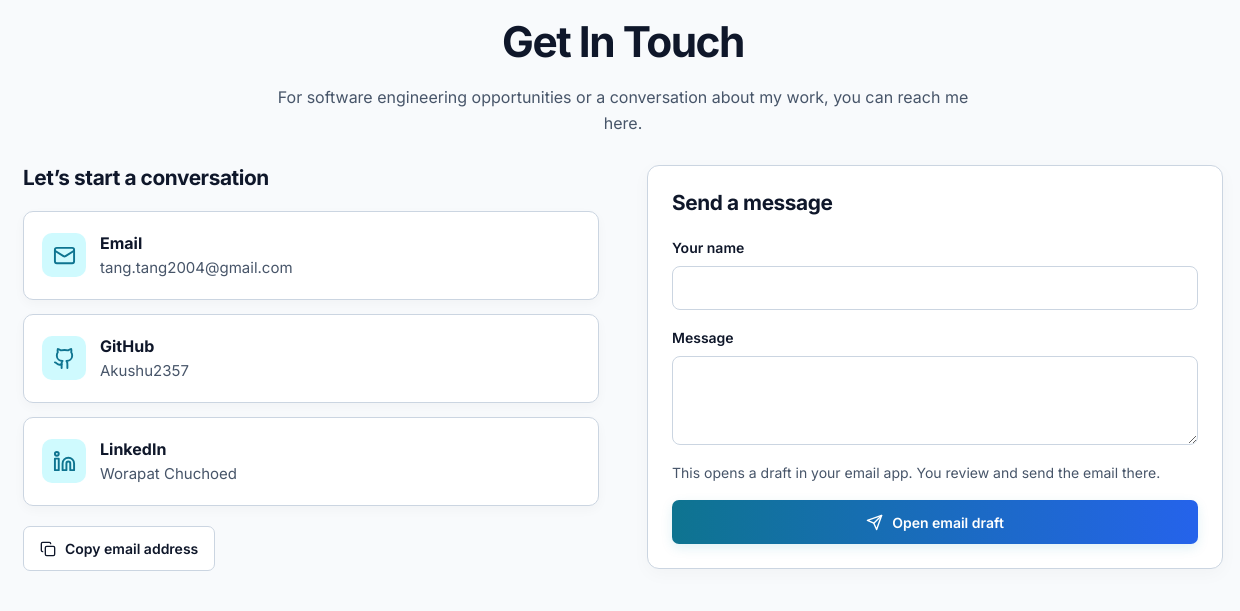
Scenario: Navigation and contact › reports clipboard success only after a successful write
The width and height of the screenshot is (1240, 611).
Click the button "Copy email address" at {"x": 119, "y": 549}, box [23,526,215,571]
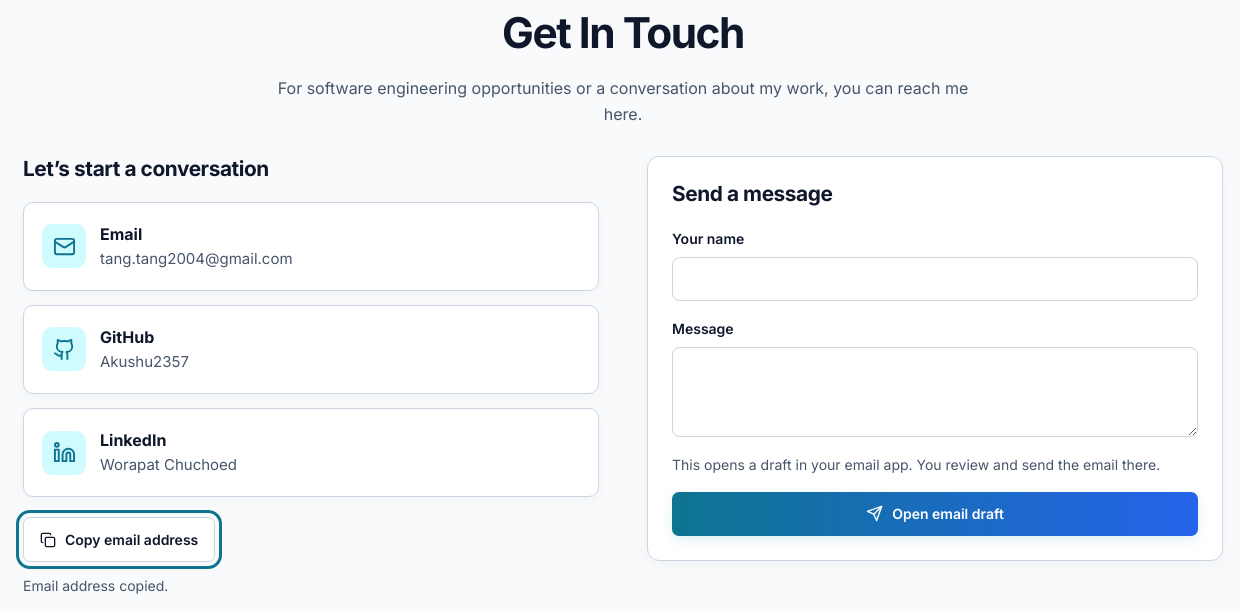
Result: the text "Email address copied." is shown at [23,577,168,594]
Click the button "Copy email address" at {"x": 119, "y": 540}, box [23,517,215,562]
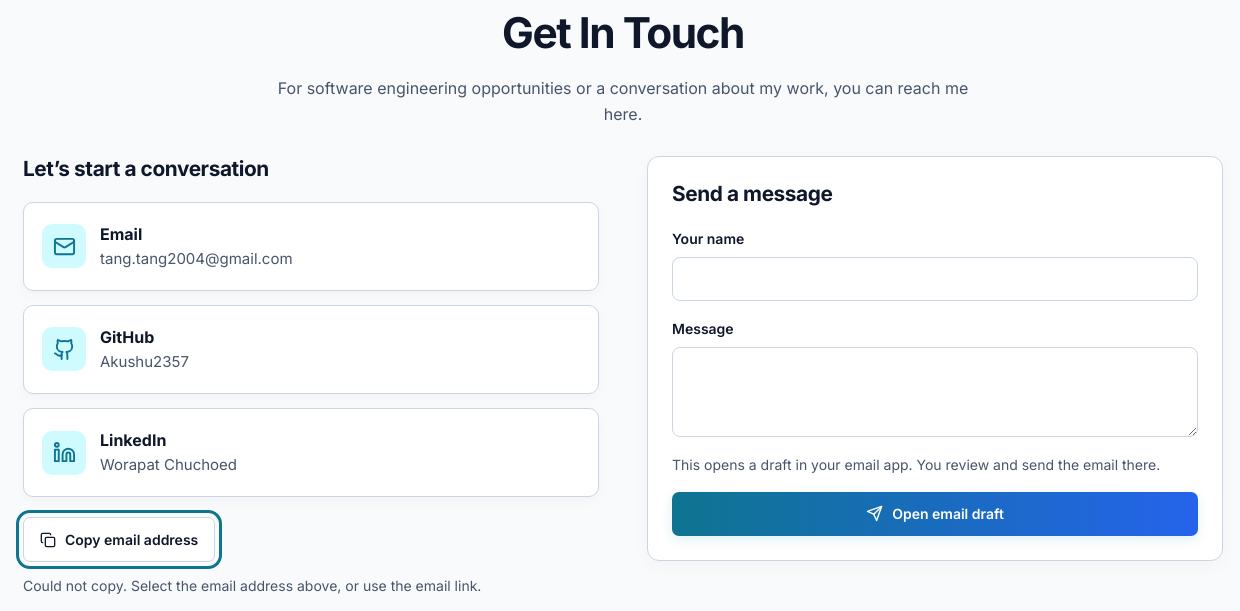
Result: the text "Could not copy. Select the email address above, or use the email link." is shown at [23,577,481,594]
